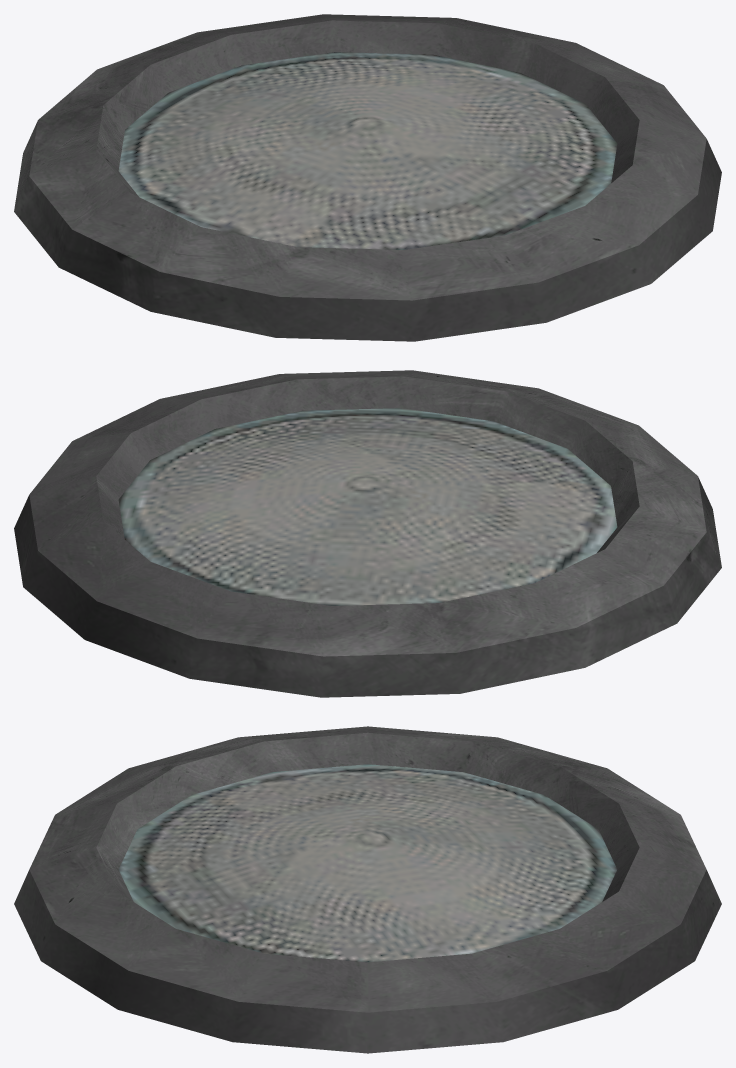
File: p6_lights_club_recessed_off_lod0.glb
3 renders of one model, top to bottom at view 1: azimuth 30°, elevation 25°; view 2: azimuth 150°, elevation 25°; view 3: azimuth 270°, elevation 25°, orthographic.
Parts seen in each view (by area): view 1: surf0, surf1; view 2: surf0, surf1; view 3: surf0, surf1.
Part boxes in pixels (x1,y1,x2,y2): surf0: [14, 14, 721, 341]; surf1: [118, 52, 617, 249]; surf0: [14, 370, 721, 697]; surf1: [118, 408, 617, 605]; surf0: [14, 726, 721, 1053]; surf1: [118, 764, 617, 962].
Size of the model in its own units: 10.53 by 1.11 by 10.53.
